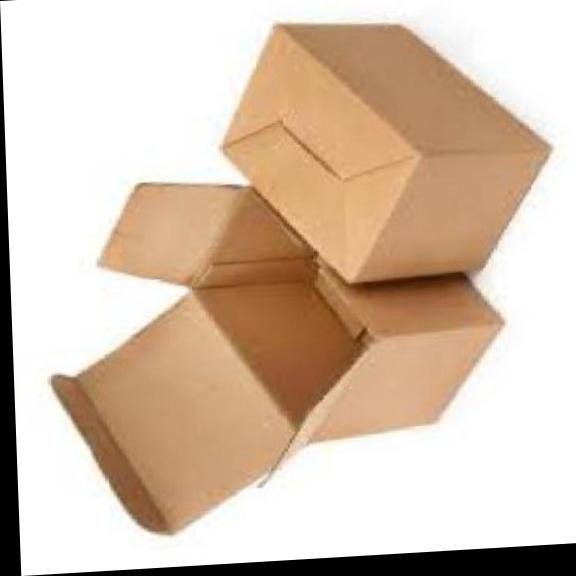Kertas: (51, 183, 499, 532), (223, 24, 547, 281)
